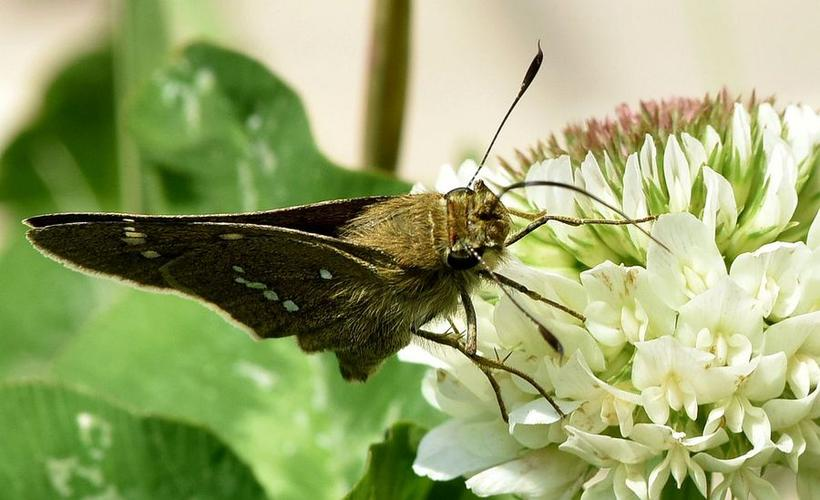Hesperiidae: (22, 37, 651, 425)
